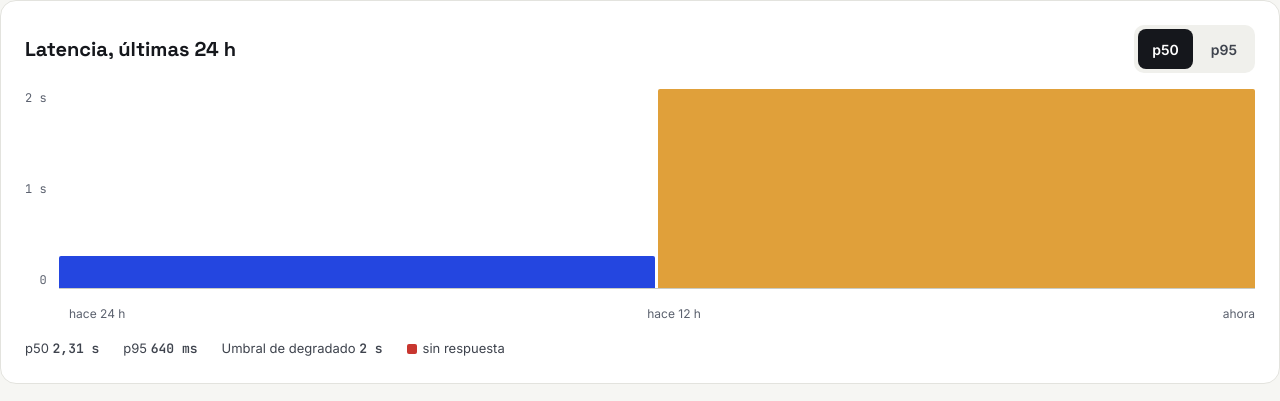
LatencyPanel › renders the buckets and switches between p50 and p95
Expected: the heading "Latencia, últimas 24 h" is shown, [25,34,236,64]
Expected: the text "Umbral de degradado" shows "2 s", [359,340,382,357]
Click the tab "p95": (1224, 49) [1197,29,1251,69]
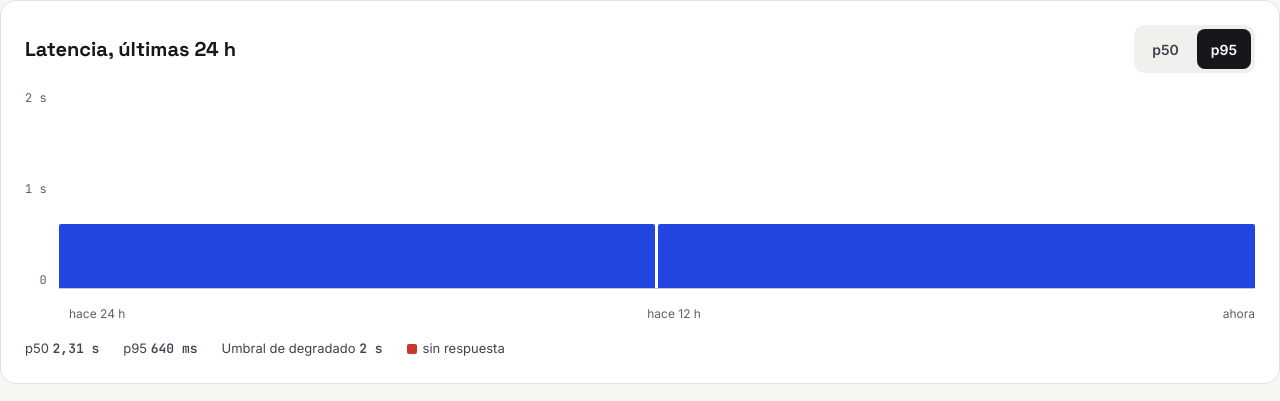
Now the tab "p95" is selected, box [1197,29,1251,69]
